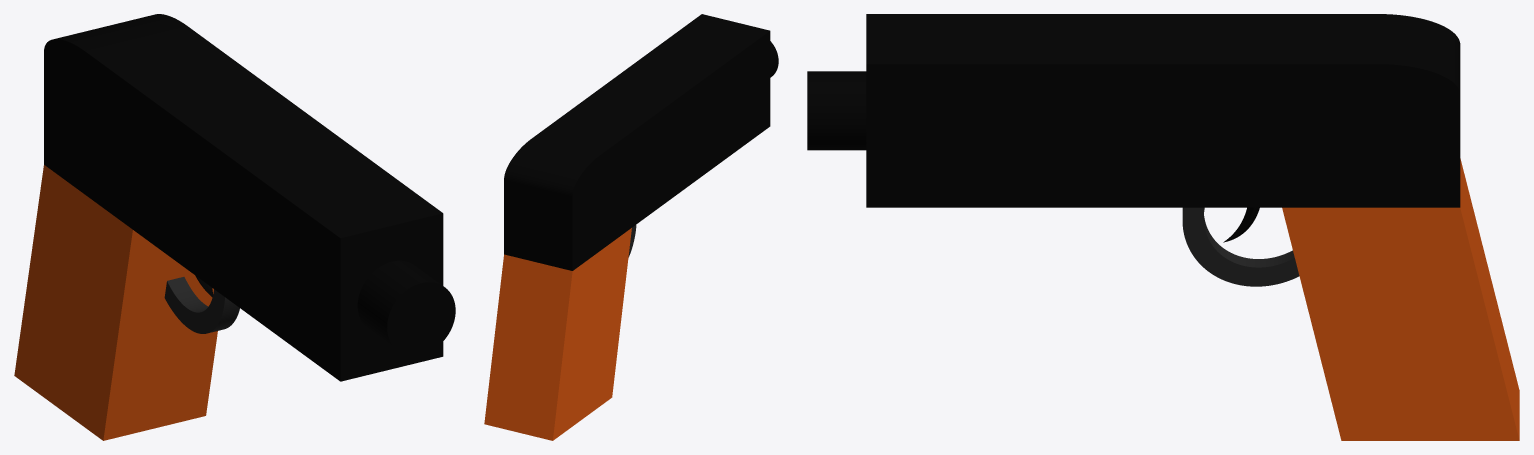
Rendered from pistol.fbx.
3 views of the same model, side by side, from view 1: azimuth 30°, elevation 25°; view 2: azimuth 150°, elevation 25°; view 3: azimuth 270°, elevation 25° (orthographic). The views are drawn at different scales.
Parts seen in each view (by area): view 1: Main, Grip, Barrel, Trigger Guard; view 2: Main, Grip; view 3: Main, Grip, Barrel, Trigger Guard.
Part boxes in pixels (x1,y1,x2,y2): Main: [44, 14, 443, 381]; Grip: [14, 165, 217, 440]; Barrel: [357, 260, 455, 355]; Trigger Guard: [164, 277, 239, 333]; Main: [504, 14, 770, 270]; Grip: [484, 228, 631, 440]; Main: [866, 14, 1460, 207]; Grip: [1282, 158, 1519, 440]; Barrel: [807, 71, 866, 150]; Trigger Guard: [1182, 207, 1299, 286].
Size of the model in its own units: 3 by 10.5 by 17.99.
